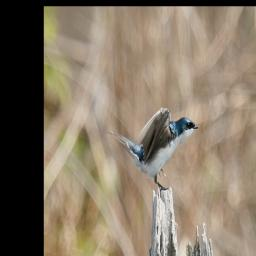Swallow: (108, 106, 199, 192)
